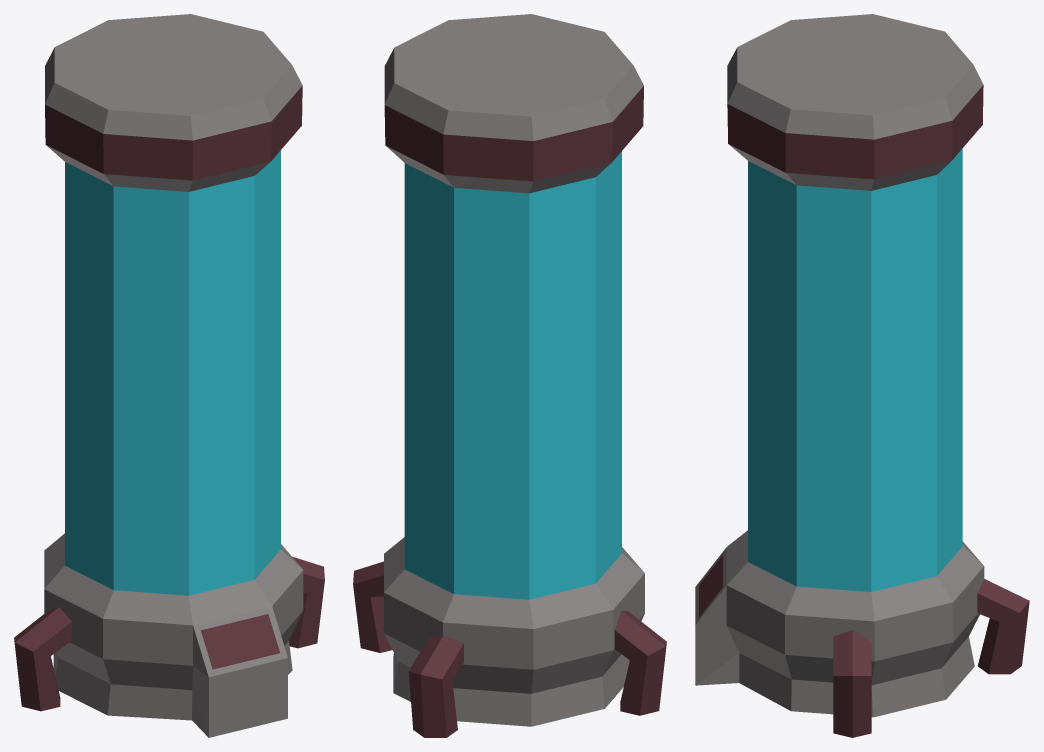
The model's file is scifi-scifi-tube-specimen.glb.
The picture shows the model from 3 angles, left to right: view 1: azimuth 30°, elevation 25°; view 2: azimuth 150°, elevation 25°; view 3: azimuth 270°, elevation 25°; orthographic projection.
Parts seen in each view (by area): view 1: scifi-tube-specimen; view 2: scifi-tube-specimen; view 3: scifi-tube-specimen.
Boxes of the visible parts, left/top/right/bottom form: scifi-tube-specimen: left=14, top=14, right=324, bottom=737; scifi-tube-specimen: left=353, top=14, right=666, bottom=737; scifi-tube-specimen: left=695, top=14, right=1029, bottom=737.
Size of the model in its own units: 1.6 by 3 by 1.51.
